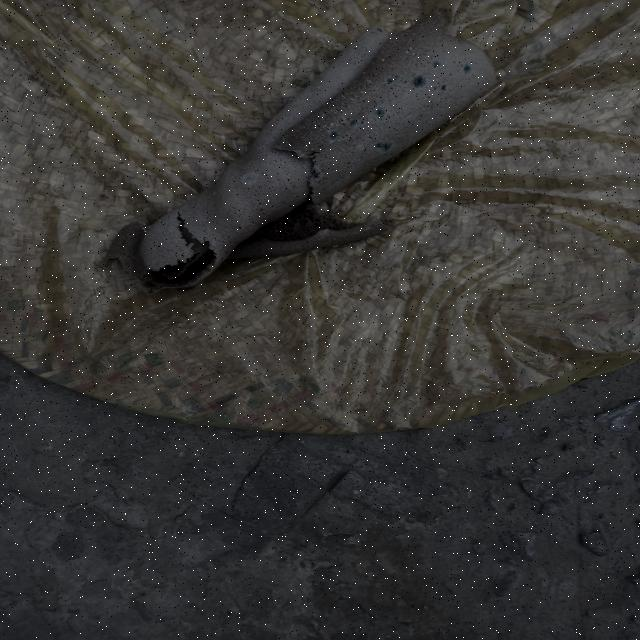injera_mold: (369, 139, 392, 155), (409, 72, 427, 92), (337, 88, 362, 102), (306, 164, 326, 180), (272, 137, 293, 152), (240, 173, 260, 187), (373, 104, 385, 122), (348, 117, 360, 131), (404, 45, 415, 59), (327, 132, 342, 142), (429, 59, 440, 70), (460, 61, 469, 74), (437, 83, 449, 91), (382, 77, 394, 85), (376, 57, 390, 63)
